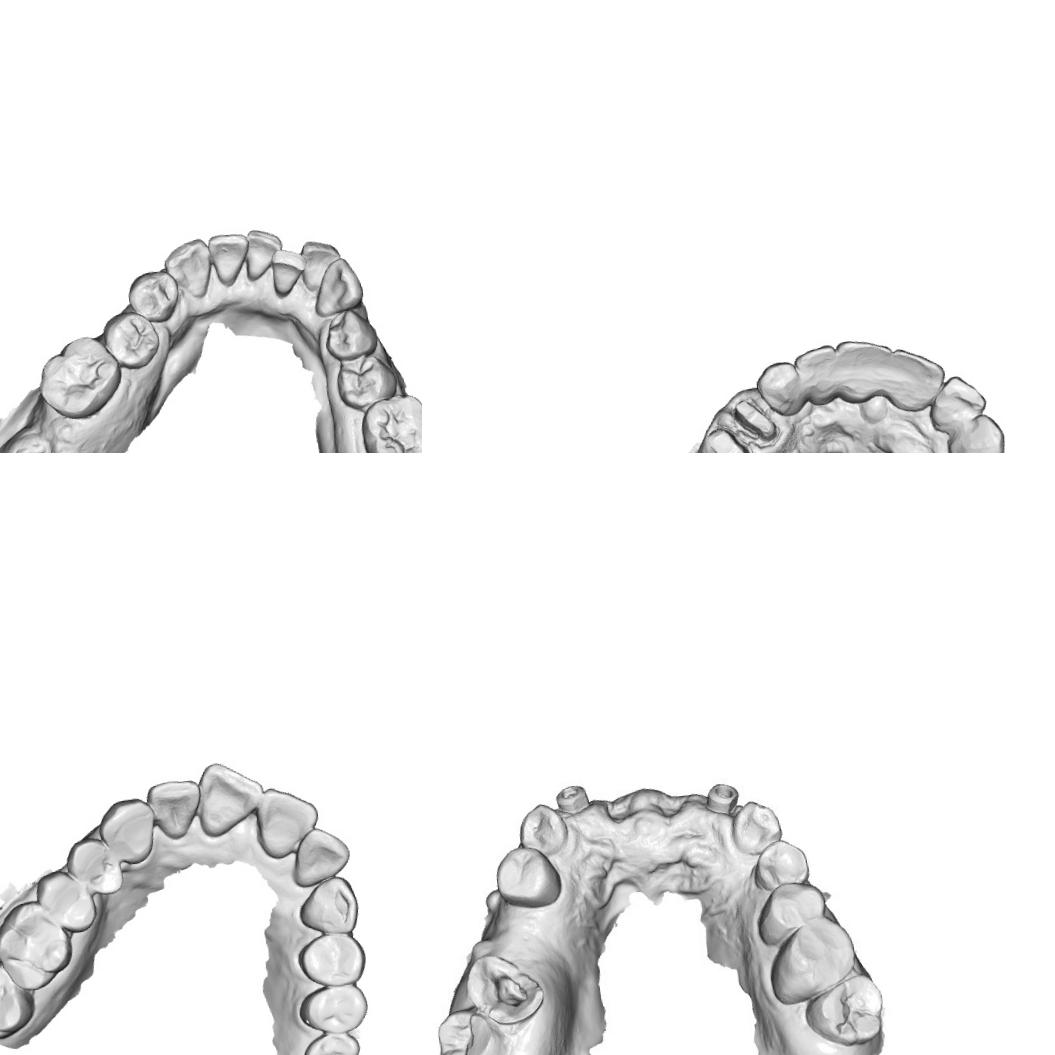canine: (94, 794, 160, 870), (292, 873, 362, 942), (303, 253, 372, 321), (159, 235, 219, 303), (753, 358, 806, 420), (942, 410, 1008, 453), (730, 802, 784, 854), (519, 803, 567, 850)
crown: (730, 394, 784, 451), (704, 422, 756, 453)
implant: (704, 774, 744, 816), (555, 778, 590, 810)
incisor: (190, 756, 271, 840), (252, 781, 324, 864), (882, 343, 950, 415), (144, 772, 208, 848), (834, 334, 899, 407), (285, 820, 352, 890), (924, 371, 990, 435), (792, 343, 842, 408), (297, 234, 346, 296), (240, 224, 288, 286), (204, 230, 252, 289), (266, 239, 312, 299)
molar: (31, 331, 130, 424), (766, 918, 860, 1008), (0, 893, 77, 995), (804, 970, 892, 1050), (354, 386, 422, 453), (428, 1004, 507, 1055), (0, 957, 40, 1048), (298, 1028, 364, 1055)
premolar: (31, 864, 99, 936), (330, 348, 404, 414), (62, 831, 128, 902), (486, 842, 558, 907), (294, 927, 368, 990), (295, 979, 373, 1037), (99, 306, 164, 374), (121, 266, 185, 330), (318, 302, 381, 364), (758, 881, 828, 931), (754, 839, 810, 884)
